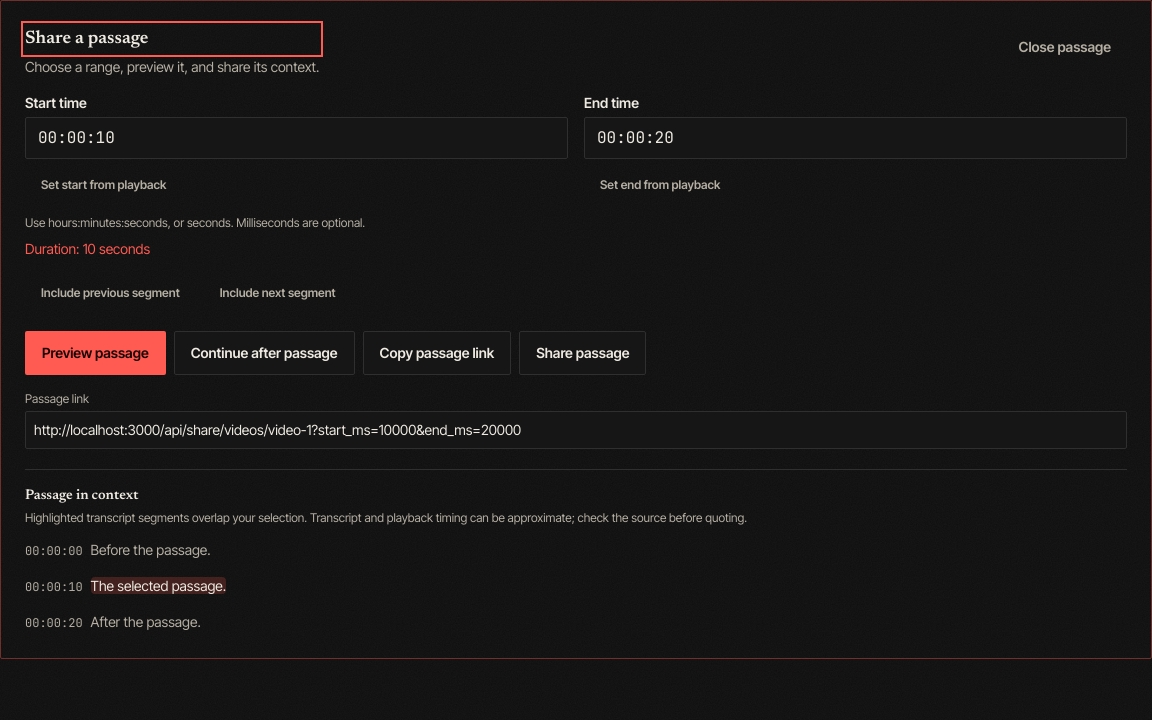
Test: PassagePanel › treats native sharing cancellation as cancellation, without copying or claiming publication
Click the button "Share passage" at (583, 353), box [519, 331, 646, 375]
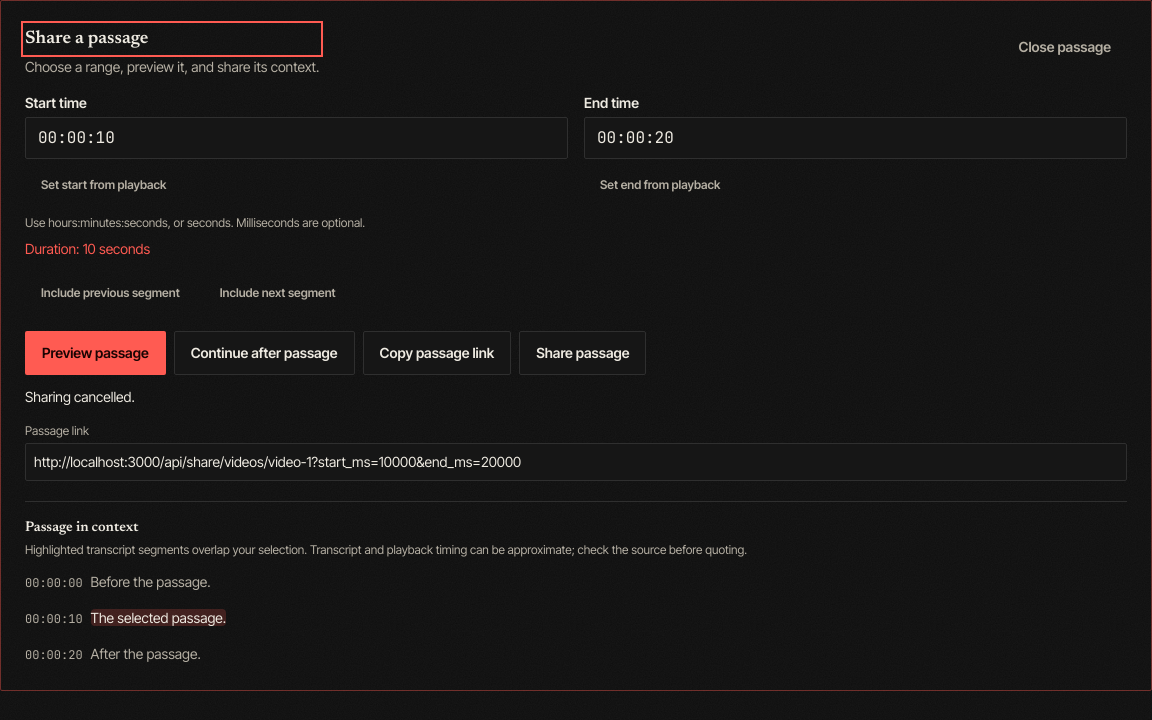
expect the text "Sharing cancelled." is shown: met, box [25, 388, 135, 405]
